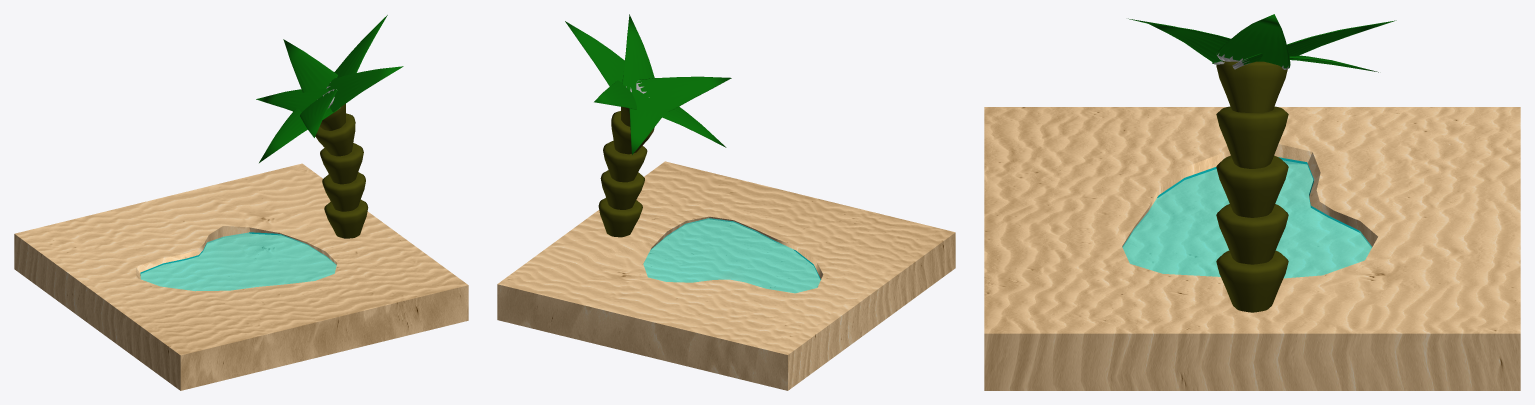
File: minimalistic_island.glb
The picture shows the model from 3 angles, left to right: view 1: azimuth 30°, elevation 25°; view 2: azimuth 150°, elevation 25°; view 3: azimuth 270°, elevation 25°; orthographic projection. The views are drawn at different scales.
Visible parts, largest first — view 1: Object_3, Object_2, Object_5, Object_6; view 2: Object_3, Object_2, Object_5, Object_6; view 3: Object_3, Object_6, Object_2, Object_5.
Boxes of the visible parts, x1,y1,x2,y2 form: Object_3: (14,163,468,390); Object_2: (140,232,336,291); Object_5: (256,15,403,162); Object_6: (315,104,368,238); Object_3: (497,161,955,390); Object_2: (643,218,820,293); Object_5: (565,14,731,154); Object_6: (598,107,654,237); Object_3: (984,107,1520,390); Object_6: (1216,61,1288,312); Object_2: (1122,157,1371,278); Object_5: (1128,14,1396,72).
Size of the model in its own units: 14.13 by 10.82 by 13.67.
Materials: 6 (1 with a texture image).
